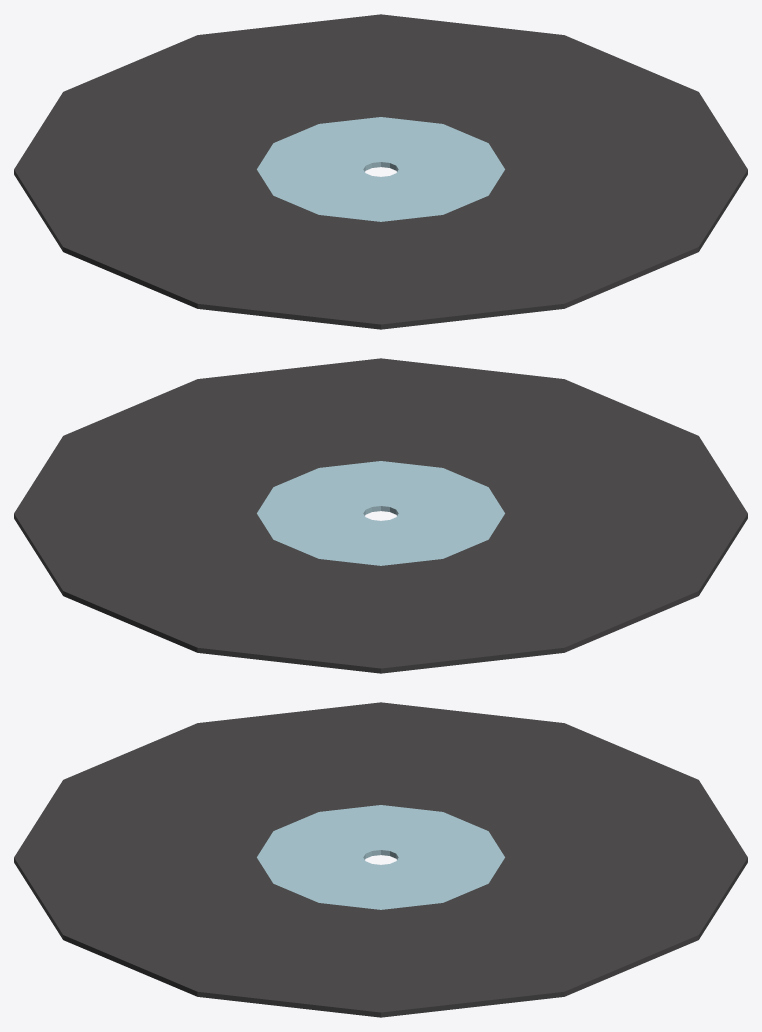
The model's file is Vinyl_4.fbx.
The picture shows the model from 3 angles, top to bottom: view 1: azimuth 30°, elevation 25°; view 2: azimuth 150°, elevation 25°; view 3: azimuth 270°, elevation 25°; orthographic projection.
Parts seen in each view (by area): view 1: Vinyl_4; view 2: Vinyl_4; view 3: Vinyl_4.
Part boxes in pixels (x1,y1,x2,y2): Vinyl_4: [14, 14, 747, 329]; Vinyl_4: [14, 358, 747, 673]; Vinyl_4: [14, 702, 747, 1017].
Size of the model in its own units: 25.67 by 25.67 by 0.1973.
